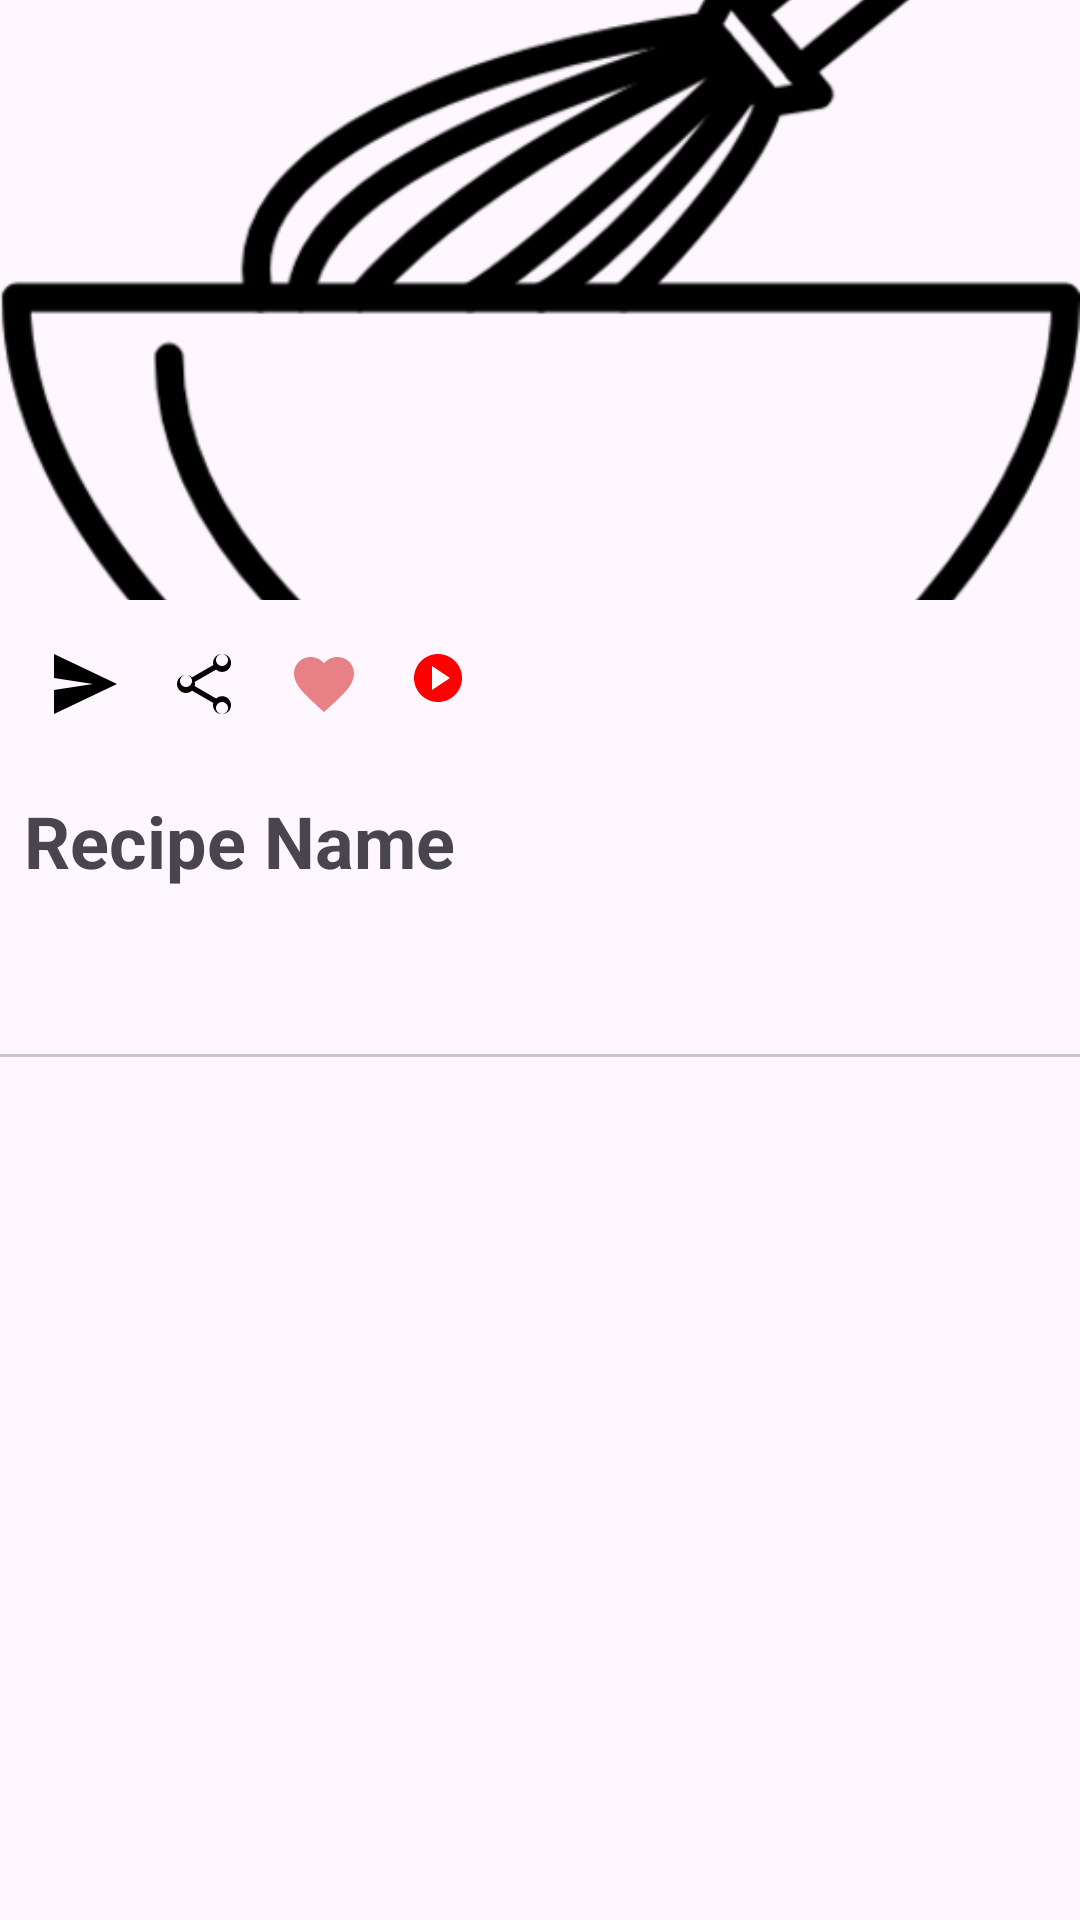

Screen size 1080w x 1920h. Icon name, then its center in pixels as (x,y):
send: (85,684)
share: (204,684)
